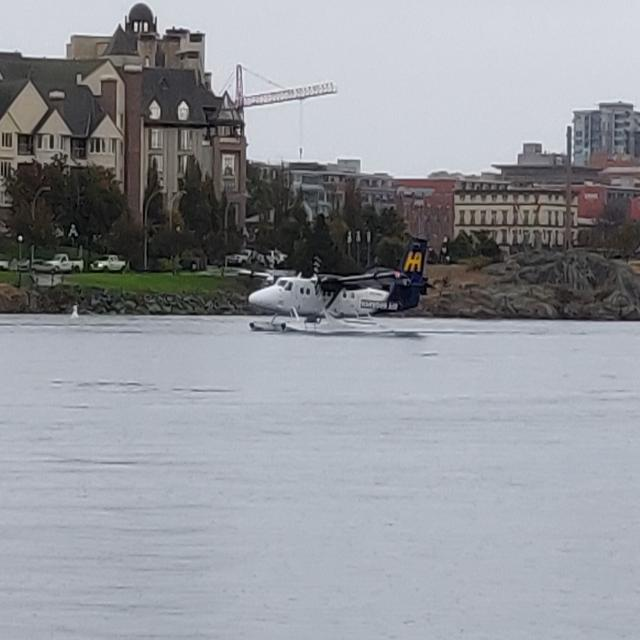aircraft: (238, 234, 435, 336)
mark: (70, 304, 80, 320)
